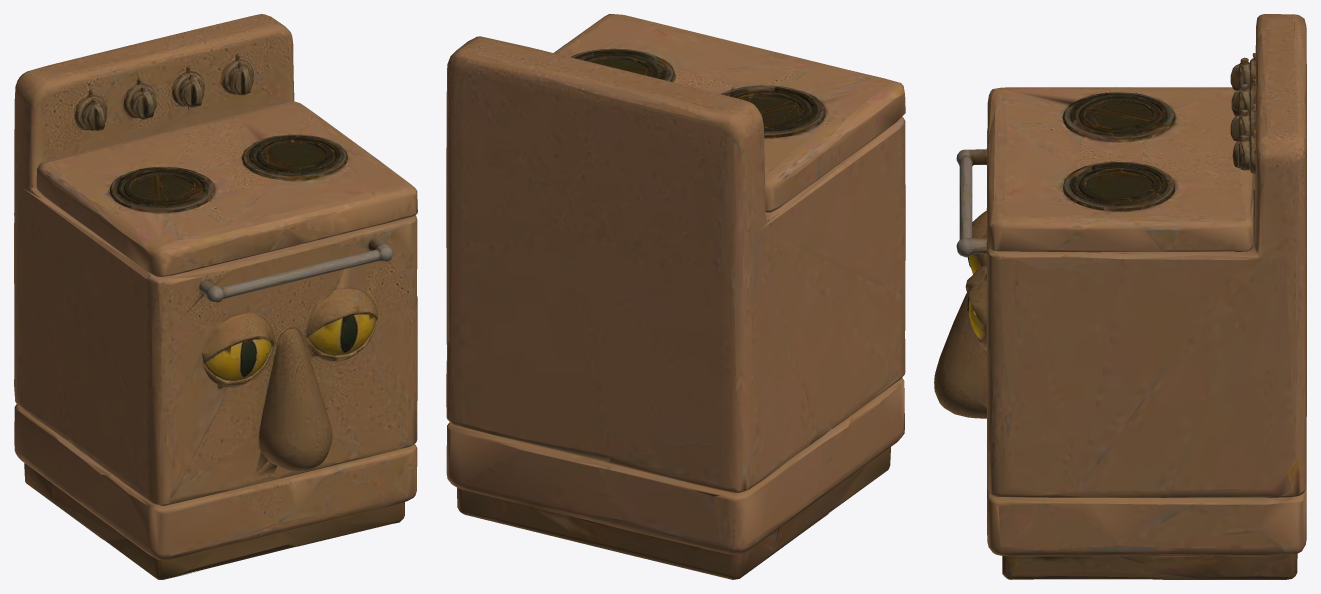
Rendered from diner_stove.glb.
3 views of the same model, side by side, from view 1: azimuth 30°, elevation 25°; view 2: azimuth 150°, elevation 25°; view 3: azimuth 270°, elevation 25° (orthographic). The views are drawn at different scales.
Parts seen in each view (by area): view 1: Mesh_0; view 2: Mesh_0; view 3: Mesh_0.
Boxes of the visible parts, x1,y1,x2,y2 form: Mesh_0: (14, 14, 417, 579); Mesh_0: (446, 14, 905, 579); Mesh_0: (934, 14, 1306, 579).
Size of the model in its own units: 1.29 by 1.9 by 1.45.
Materials: 1 (1 with a texture image).
